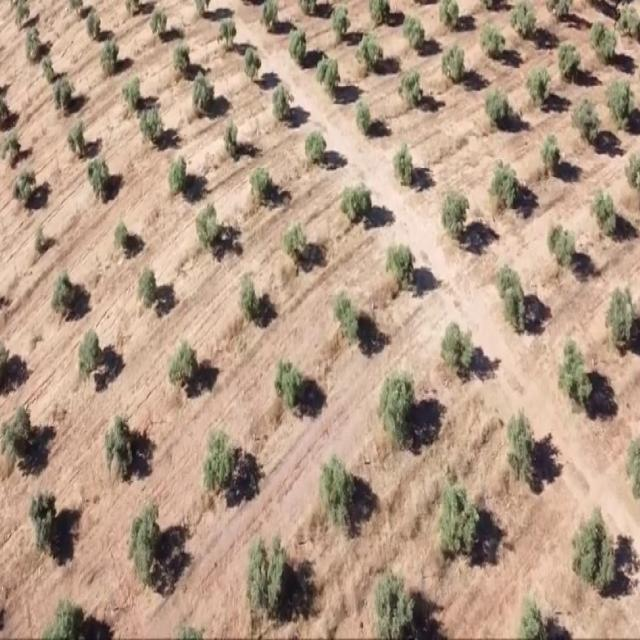trees: (7, 478, 93, 576), (559, 506, 628, 603), (368, 542, 431, 640), (304, 444, 358, 544), (241, 526, 295, 625), (195, 414, 244, 514), (374, 361, 422, 463), (431, 471, 483, 564), (552, 327, 597, 425), (124, 493, 170, 586), (498, 399, 546, 488), (260, 334, 312, 414), (490, 250, 536, 340), (430, 315, 482, 386), (100, 405, 146, 483), (236, 154, 281, 229), (534, 210, 578, 285), (0, 394, 41, 472), (601, 282, 640, 360), (166, 330, 203, 409), (74, 321, 115, 384), (437, 188, 477, 246), (340, 170, 373, 239), (228, 271, 268, 327), (484, 153, 520, 214), (195, 197, 228, 263), (590, 187, 624, 250), (278, 212, 310, 274), (11, 167, 52, 214), (330, 284, 362, 342), (383, 234, 417, 288), (520, 59, 554, 113), (49, 270, 86, 319), (606, 70, 639, 124), (192, 63, 220, 126), (133, 255, 162, 314), (389, 137, 422, 186), (265, 76, 298, 124), (171, 29, 199, 84), (482, 86, 517, 130), (214, 13, 244, 63), (590, 15, 623, 60), (162, 148, 190, 200), (574, 92, 600, 148), (111, 208, 136, 266), (86, 154, 117, 200), (535, 132, 566, 178), (134, 97, 162, 147), (2, 123, 32, 169), (557, 28, 580, 88), (29, 216, 57, 264), (52, 69, 82, 113), (396, 64, 425, 107), (439, 41, 468, 84), (218, 114, 243, 163), (118, 66, 145, 111), (398, 11, 428, 51), (63, 115, 92, 156), (316, 51, 343, 95), (352, 93, 374, 142), (479, 19, 508, 56), (509, 0, 540, 33), (302, 126, 331, 161), (238, 46, 265, 83), (358, 31, 386, 66), (148, 0, 172, 37), (285, 26, 309, 63), (25, 24, 46, 66), (99, 36, 119, 80), (327, 0, 347, 40), (368, 0, 398, 26), (436, 0, 466, 26), (84, 5, 103, 40), (261, 0, 282, 31), (41, 46, 57, 82)
